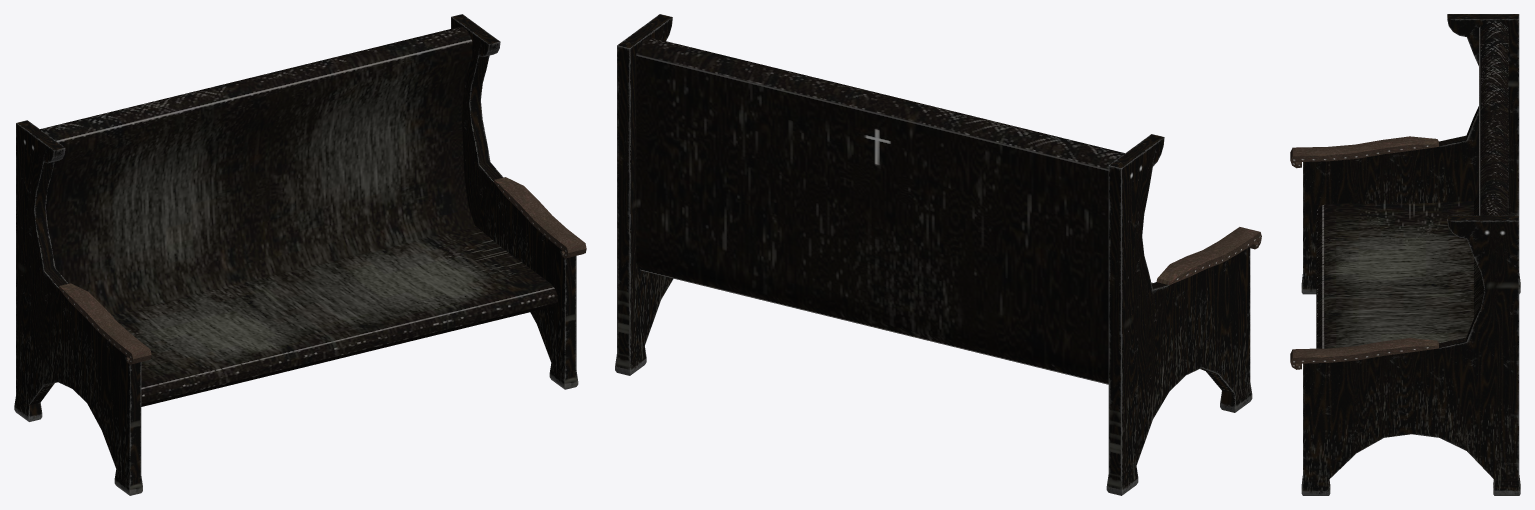
Rendered from church_bench.glb.
3 views of the same model, side by side, from view 1: azimuth 30°, elevation 25°; view 2: azimuth 150°, elevation 25°; view 3: azimuth 270°, elevation 25° (orthographic). The views are drawn at different scales.
Visible parts, largest first — view 1: Box001; view 2: Box001; view 3: Box001.
Boxes of the visible parts, bbox=[...] form: Box001: bbox=[14, 14, 586, 495]; Box001: bbox=[615, 14, 1261, 495]; Box001: bbox=[1290, 14, 1520, 495].
Size of the model in its own units: 70.87 by 43.16 by 32.73.
Materials: 1 (1 with a texture image).
